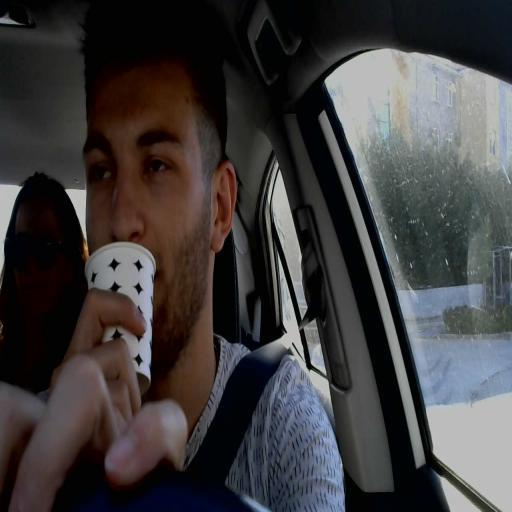Drinking: (82, 64, 238, 395)
